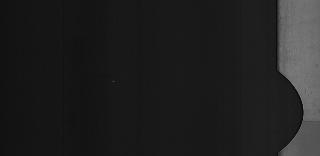welding line: (300, 119, 320, 123)
